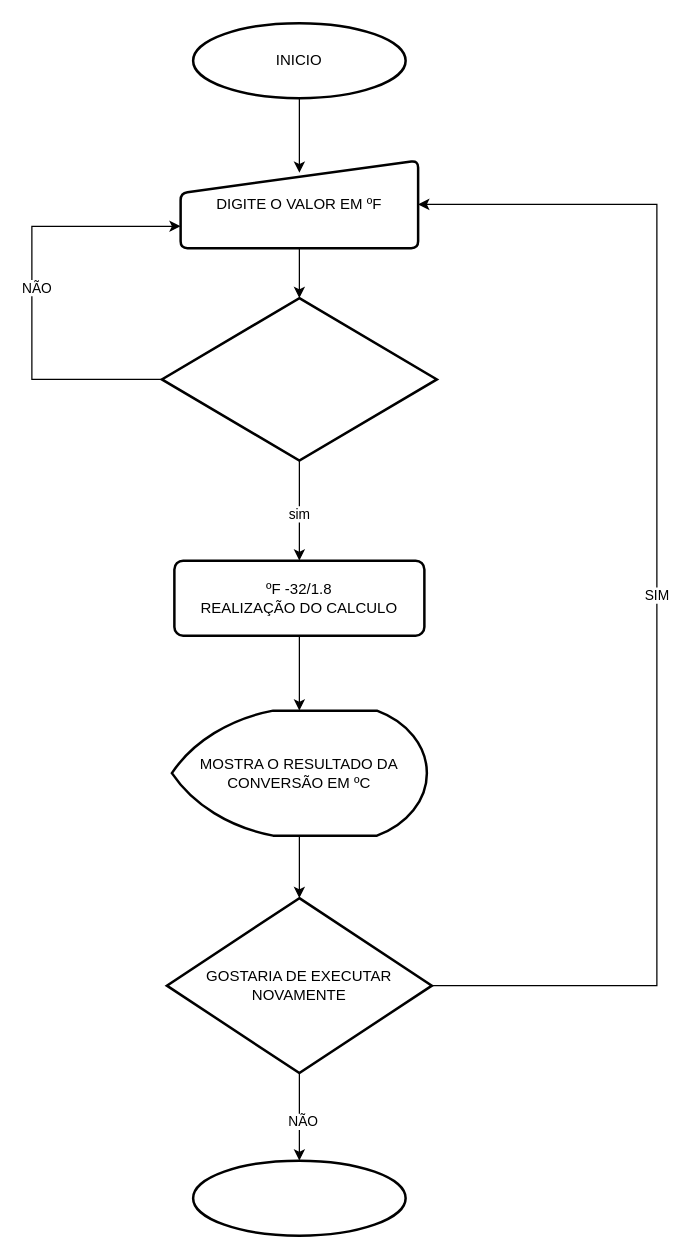
This 690x1258 diagram has some shape labels left out. The centre of each missing label's shape, as x and y in pixels:
ENTRADA FOI DIGITADA CORRETAMENTE: (x=299, y=378)
FIM DO PROGRAMA: (x=298, y=1197)
